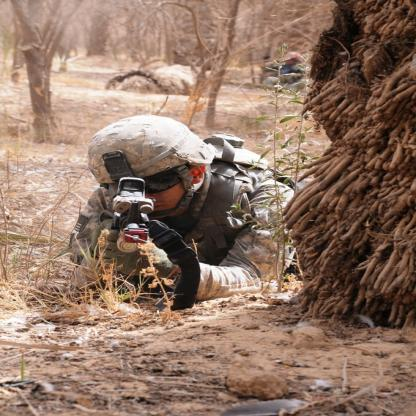Helmet: (85, 114, 218, 186)
